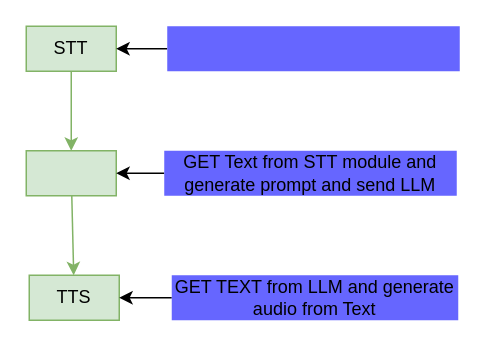
Some shapes in this 486 by 347 pixel diagram are drawn without their labels. The shapes that lost their labels are listed below. From the top down, each one's centre as x and y in pixels, then its label:
At pixel 312 48: "GET Audio and Translate to TEXT".
At pixel 70 172: "LLM".
